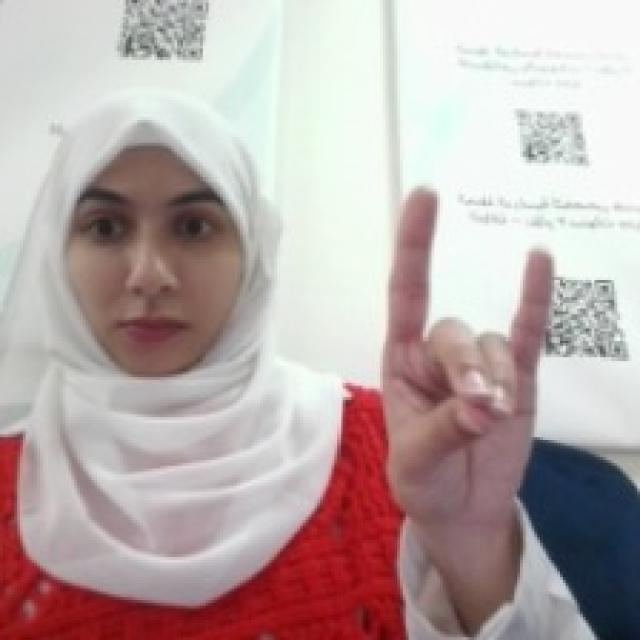Dog: (371, 180, 560, 526)
